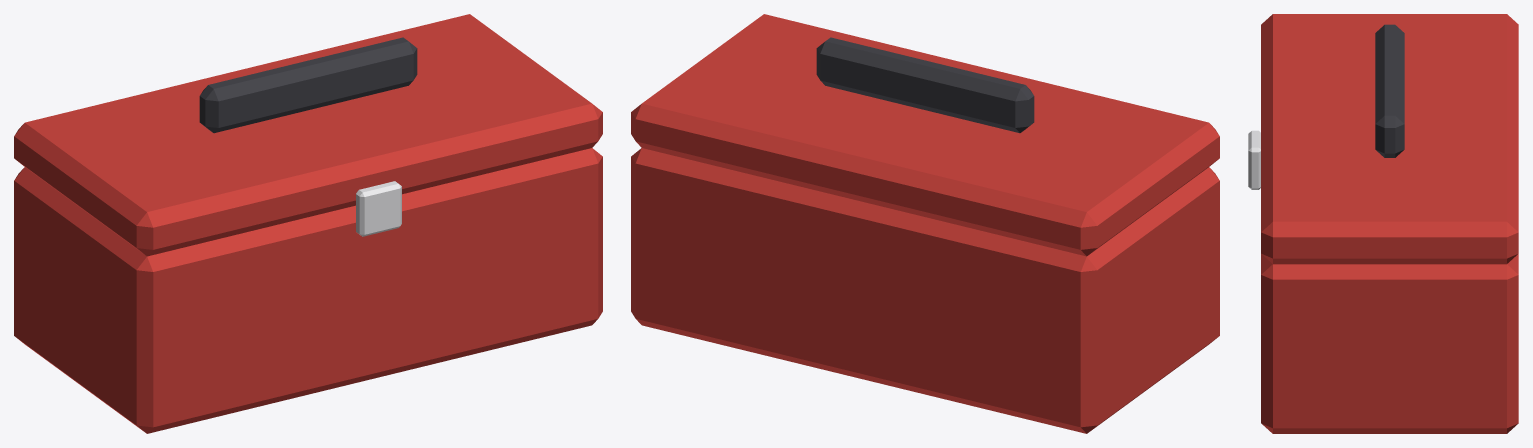
File: toolbox.fbx
3 views of the same model, side by side, from view 1: azimuth 30°, elevation 25°; view 2: azimuth 150°, elevation 25°; view 3: azimuth 270°, elevation 25° (orthographic). The views are drawn at different scales.
Visible parts, largest first — view 1: Body, Lid; view 2: Body, Lid; view 3: Lid, Body.
Boxes of the visible parts, bbox=[...] form: Body: bbox=[14, 148, 602, 433]; Lid: bbox=[14, 14, 602, 256]; Body: bbox=[631, 148, 1219, 433]; Lid: bbox=[631, 14, 1219, 256]; Lid: bbox=[1248, 14, 1518, 264]; Body: bbox=[1261, 254, 1518, 433].
Bounding box in the file's own units: 0.44 × 0.245 × 0.231.
